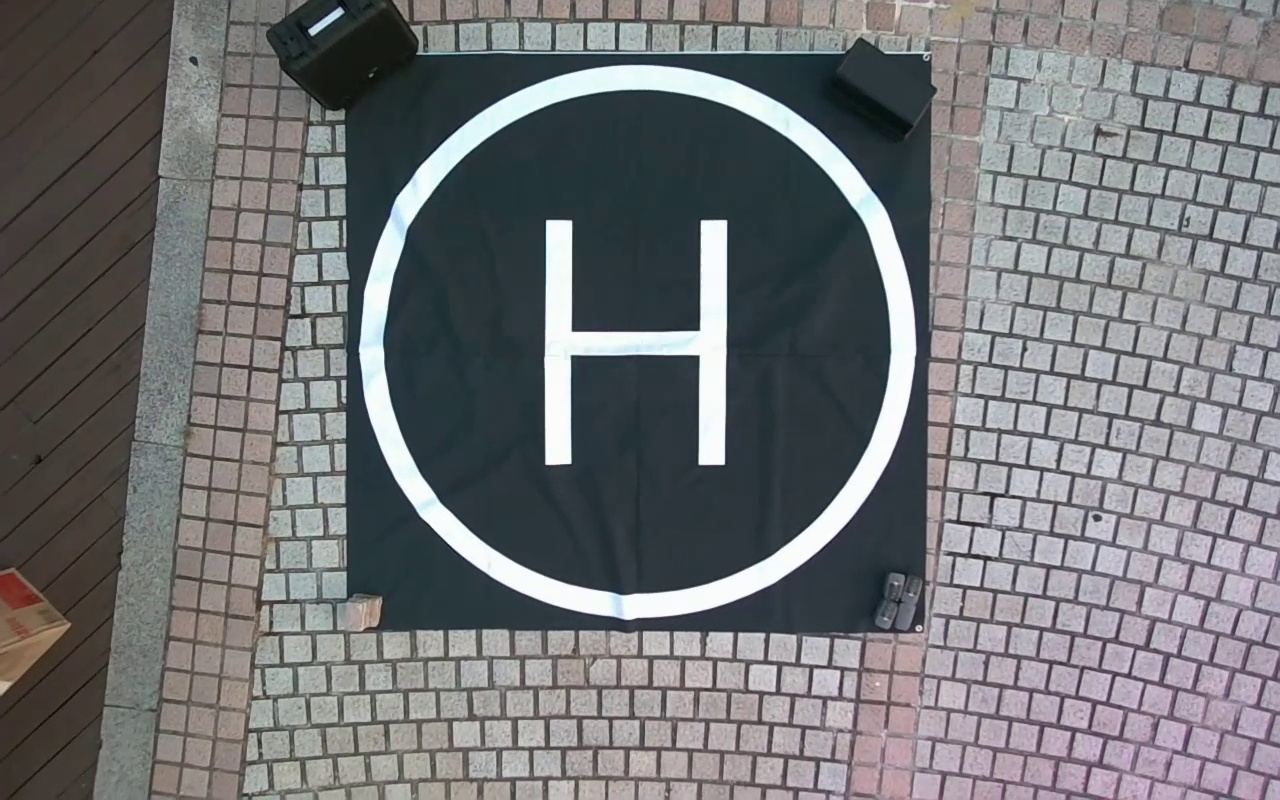H: (540, 219, 730, 468)
heliport: (358, 62, 919, 620)
